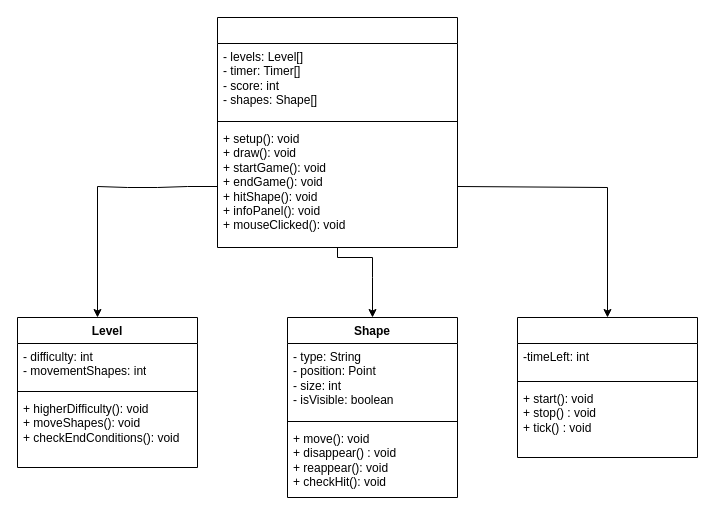
This 715x518 diagram has some shape labels left out. Here are the shapes that lost their labels. From the top down, the box of each, then its label:
(216, 16, 458, 248): Bullseye Bonanza
(516, 316, 698, 458): Timer
